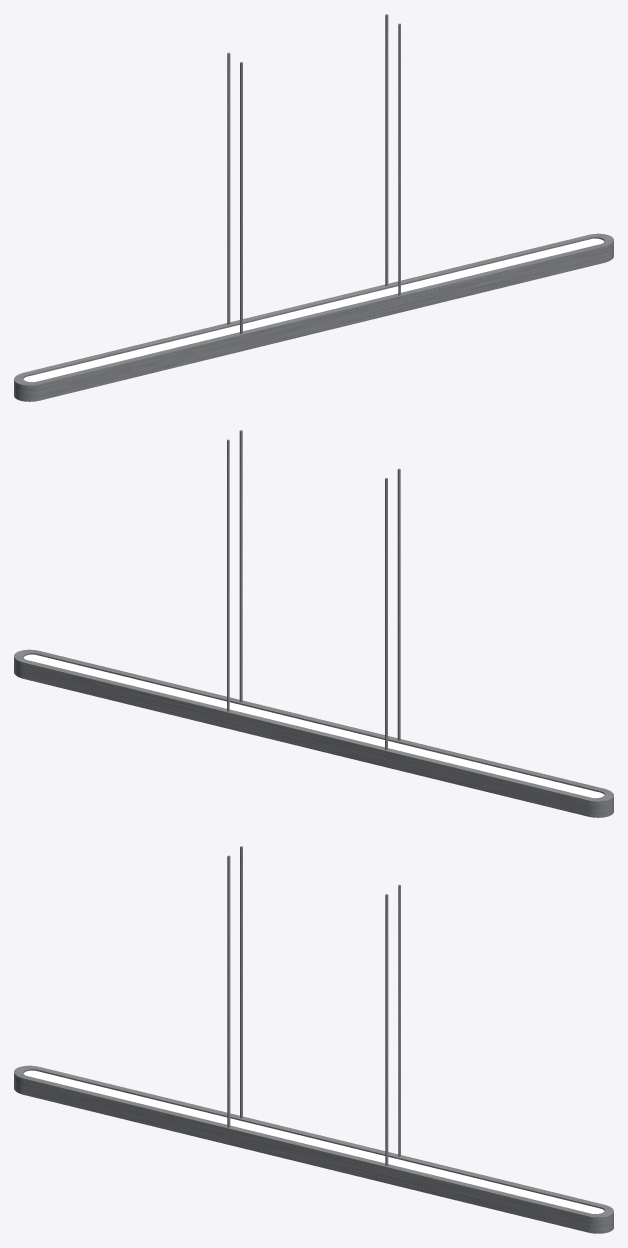
The model's file is ceiling_lamp_mnr0032.glb.
3 views of the same model, one above another, from view 1: azimuth 30°, elevation 25°; view 2: azimuth 150°, elevation 25°; view 3: azimuth 330°, elevation 25° (orthographic).
Parts seen in each view (by area): view 1: ArtemidDeckenleuchte.002; view 2: ArtemidDeckenleuchte.002; view 3: ArtemidDeckenleuchte.002.
Part boxes in pixels (x1,y1,x2,y2): ArtemidDeckenleuchte.002: [14, 14, 613, 401]; ArtemidDeckenleuchte.002: [14, 430, 613, 817]; ArtemidDeckenleuchte.002: [14, 846, 613, 1233].
Size of the model in its own units: 1.51 by 0.6944 by 0.07.
2 materials, 1 textured.
